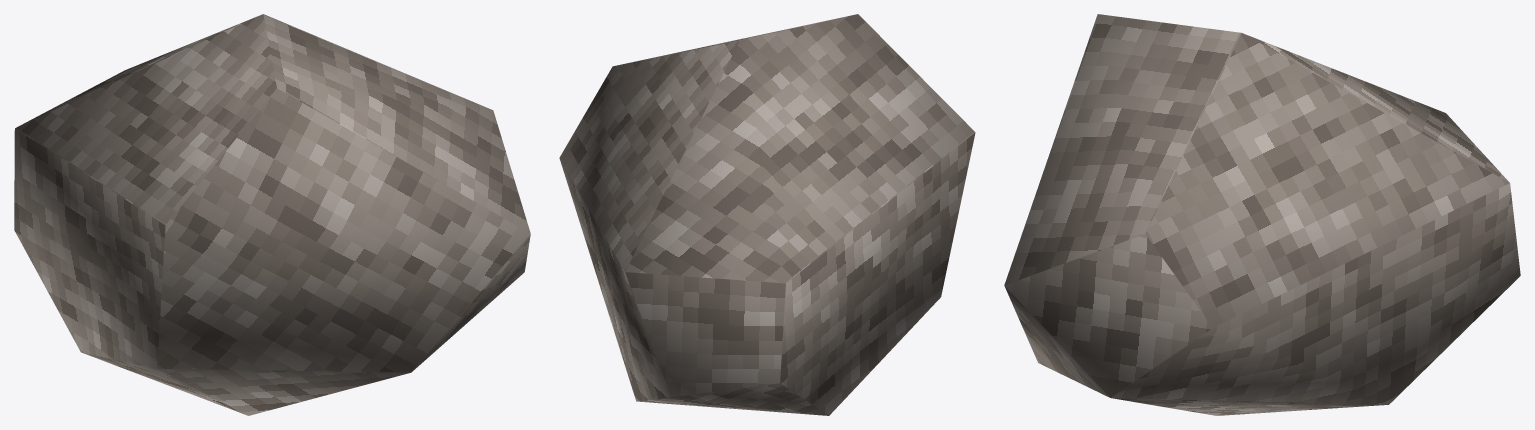
Rendered from sboulderreg_0.dae.
The picture shows the model from 3 angles, left to right: view 1: azimuth 30°, elevation 25°; view 2: azimuth 150°, elevation 25°; view 3: azimuth 270°, elevation 25°; orthographic projection. The views are drawn at different scales.
Visible parts, largest first — view 1: sboulderreg_0; view 2: sboulderreg_0; view 3: sboulderreg_0.
Part boxes in pixels (box(x1,y1,x2,y2)): sboulderreg_0: box(14, 14, 530, 415); sboulderreg_0: box(559, 14, 975, 415); sboulderreg_0: box(1004, 14, 1520, 415).
Size of the model in its own units: 0.8447 by 0.9629 by 0.8159.
Materials: 1 (1 with a texture image).
